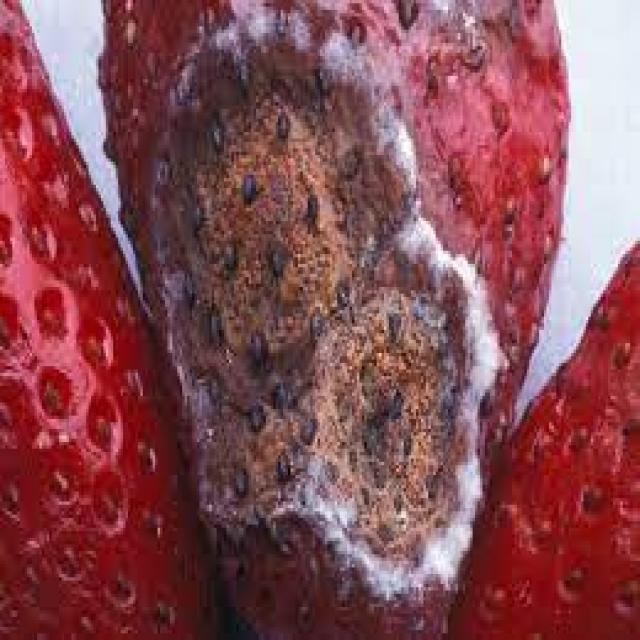Mancha negra Antracnosis: (117, 5, 538, 598)
